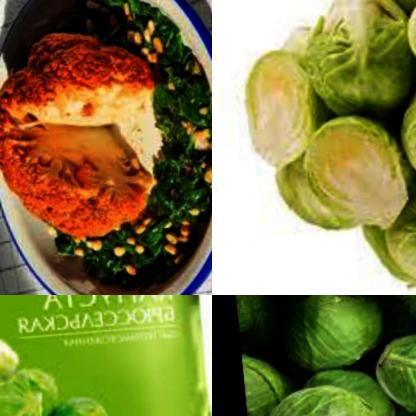beans: (145, 230, 190, 272), (122, 28, 160, 69), (66, 238, 99, 264), (104, 242, 122, 263), (121, 243, 140, 262), (113, 263, 130, 281)
brus capusta: (273, 107, 416, 263), (236, 295, 416, 416), (0, 315, 180, 416), (287, 0, 416, 116), (216, 44, 329, 167), (351, 161, 416, 295), (390, 95, 416, 200)
cayliflower: (0, 38, 167, 250)
